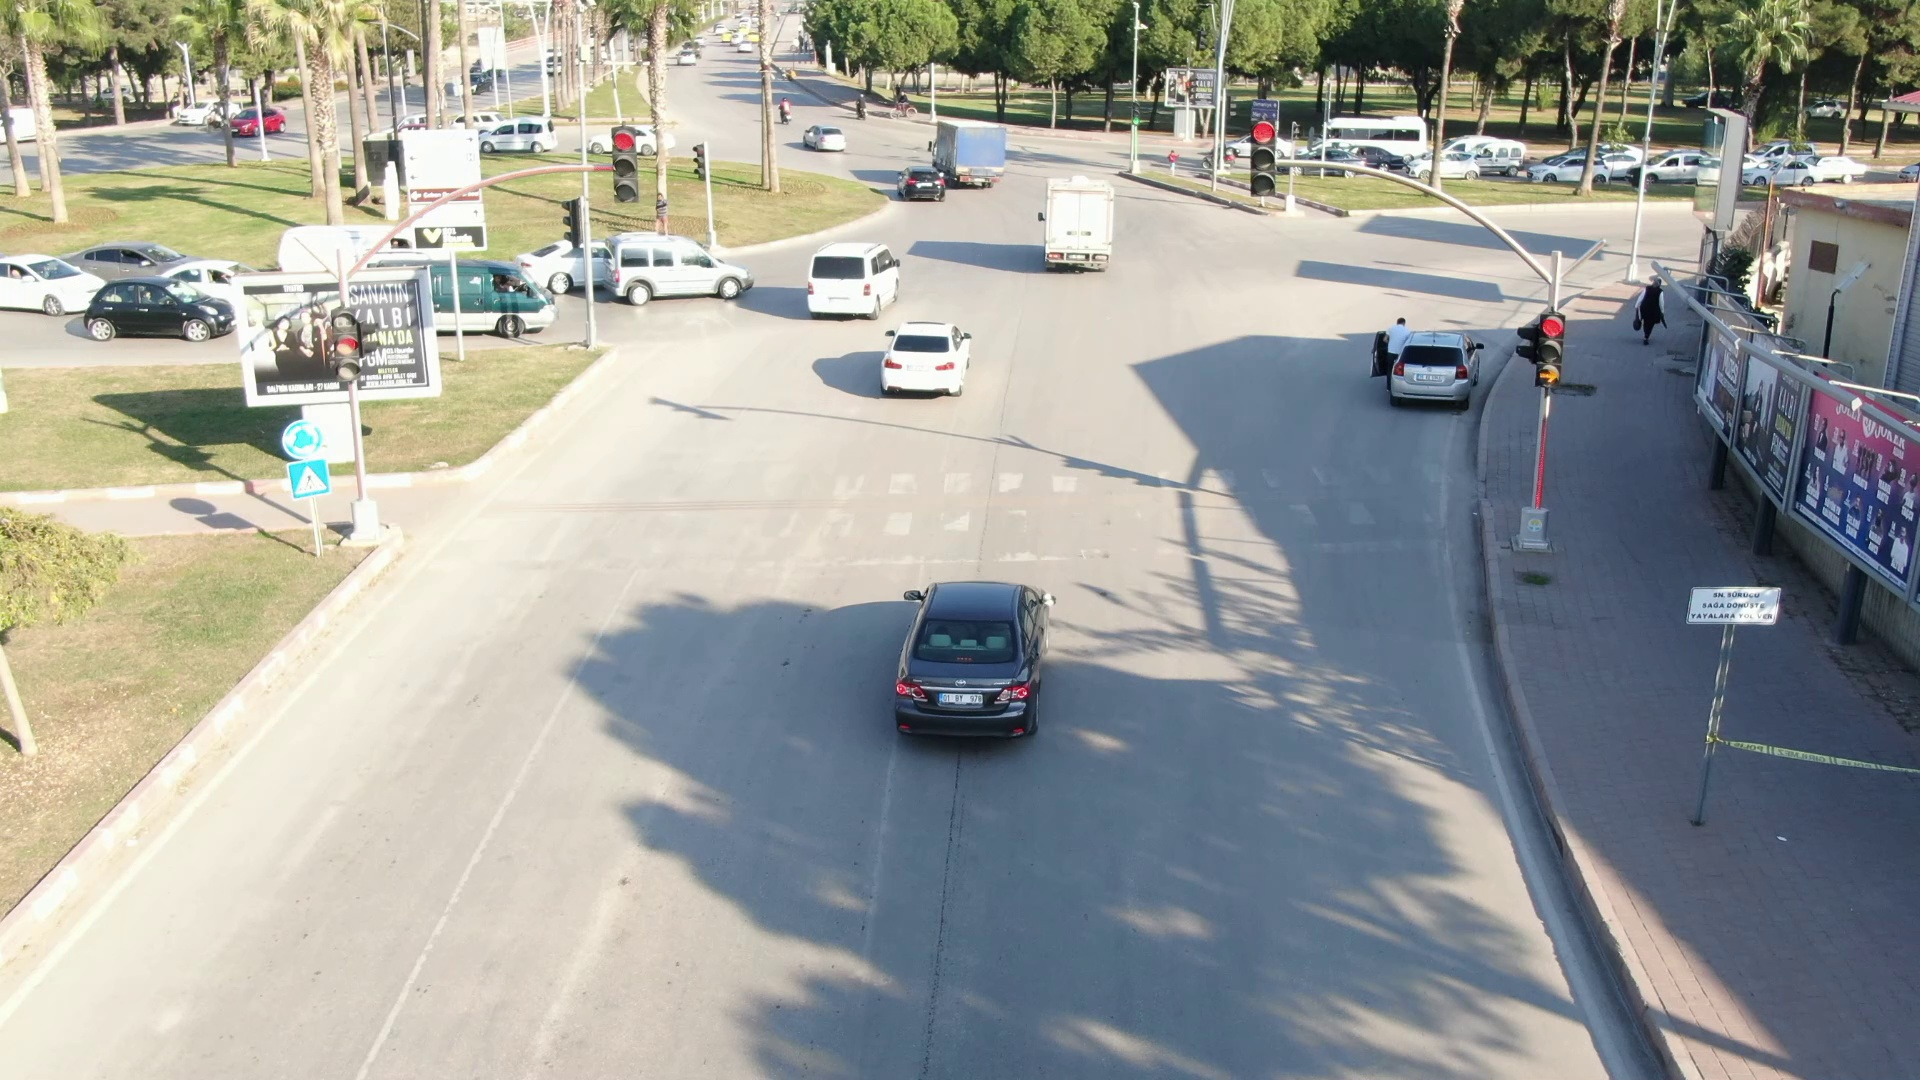car: (878, 562, 1064, 752), (596, 227, 773, 304), (1027, 168, 1130, 283), (867, 313, 988, 398), (800, 231, 906, 324), (1383, 335, 1486, 410), (1519, 153, 1620, 191), (884, 163, 950, 206)
person: (1622, 273, 1675, 352)
